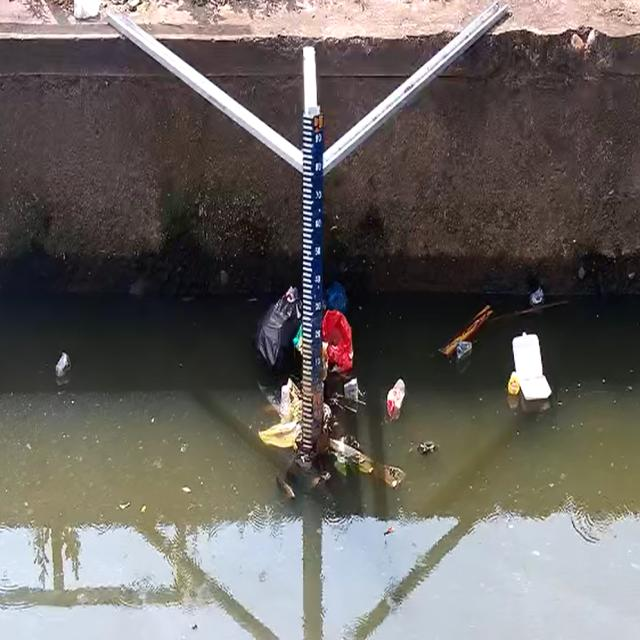water-meter: (295, 108, 334, 486)
